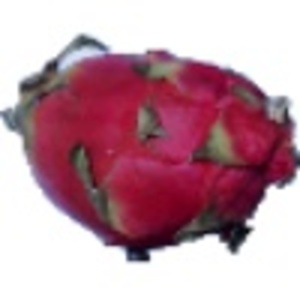pitaia: (1, 33, 300, 264)
